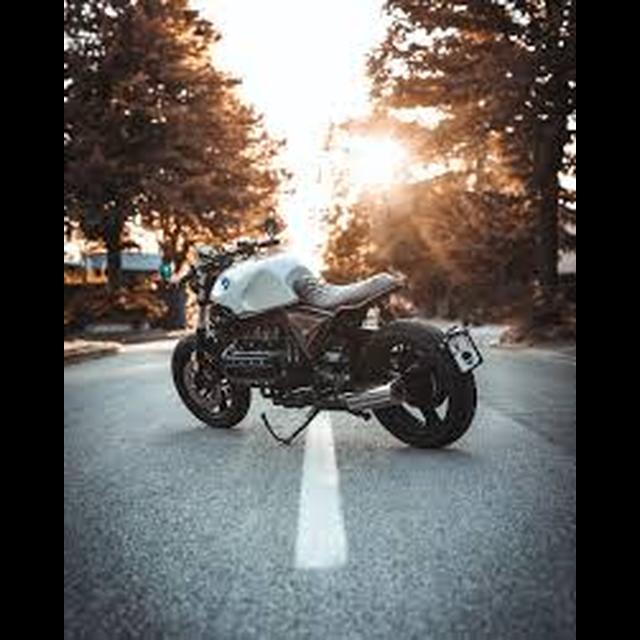motorcycle: (157, 211, 491, 460)
